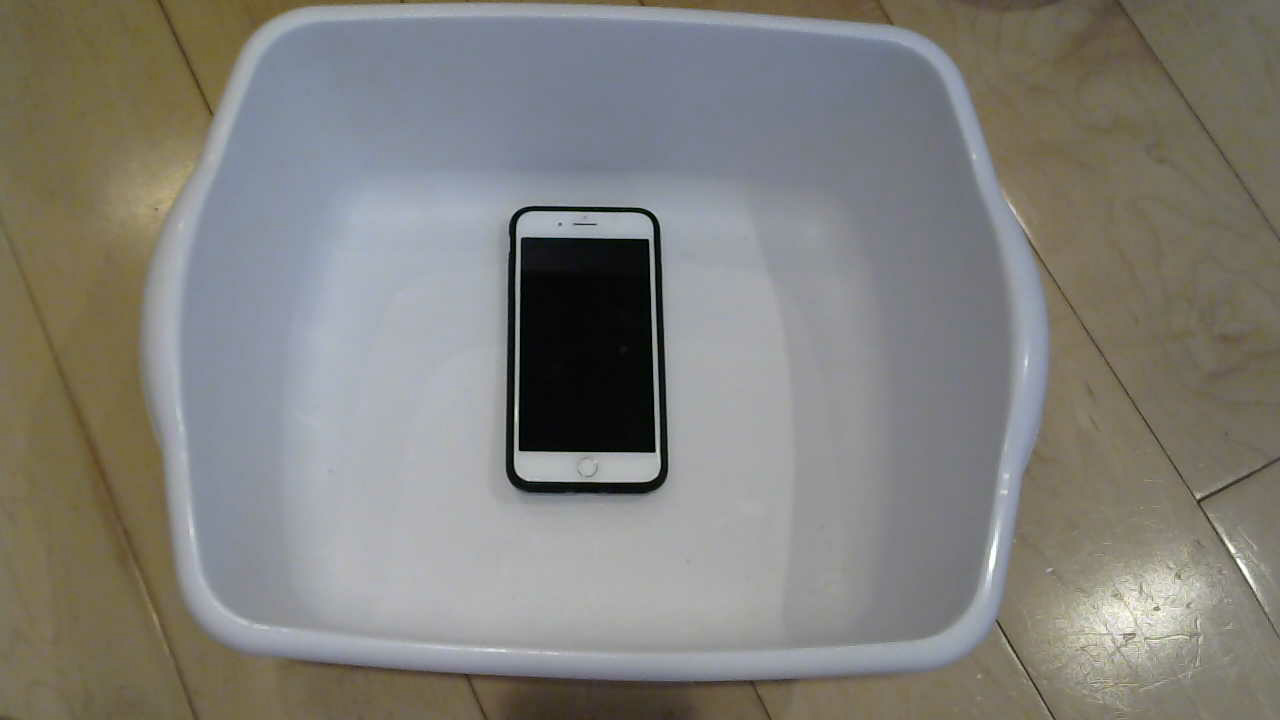phone: (496, 199, 681, 510)
